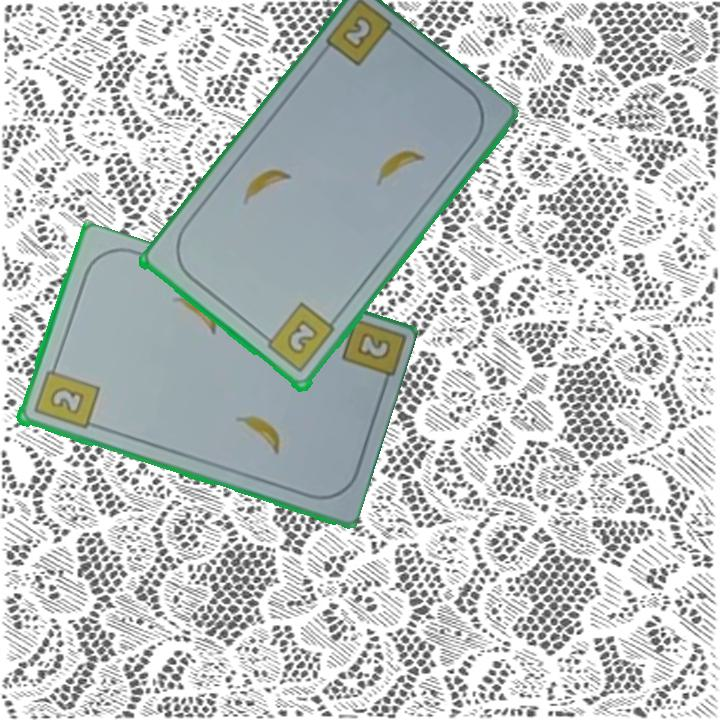2b: (257, 300, 338, 376), (30, 359, 101, 432), (338, 12, 377, 53), (352, 329, 393, 364)
